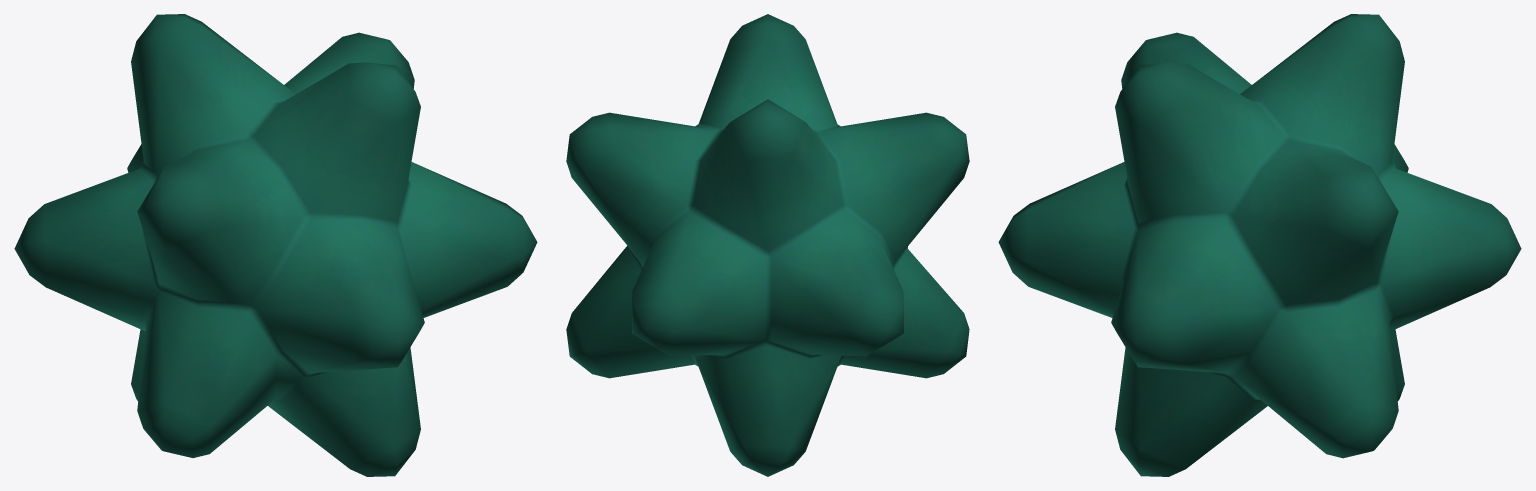
Rendered from libra-fragment.glb.
The picture shows the model from 3 angles, left to right: view 1: azimuth 30°, elevation 25°; view 2: azimuth 150°, elevation 25°; view 3: azimuth 270°, elevation 25°; orthographic projection. The views are drawn at different scales.
Size of the model in its own units: 3.1 by 3.05 by 3.52.
1 material, 1 textured.
